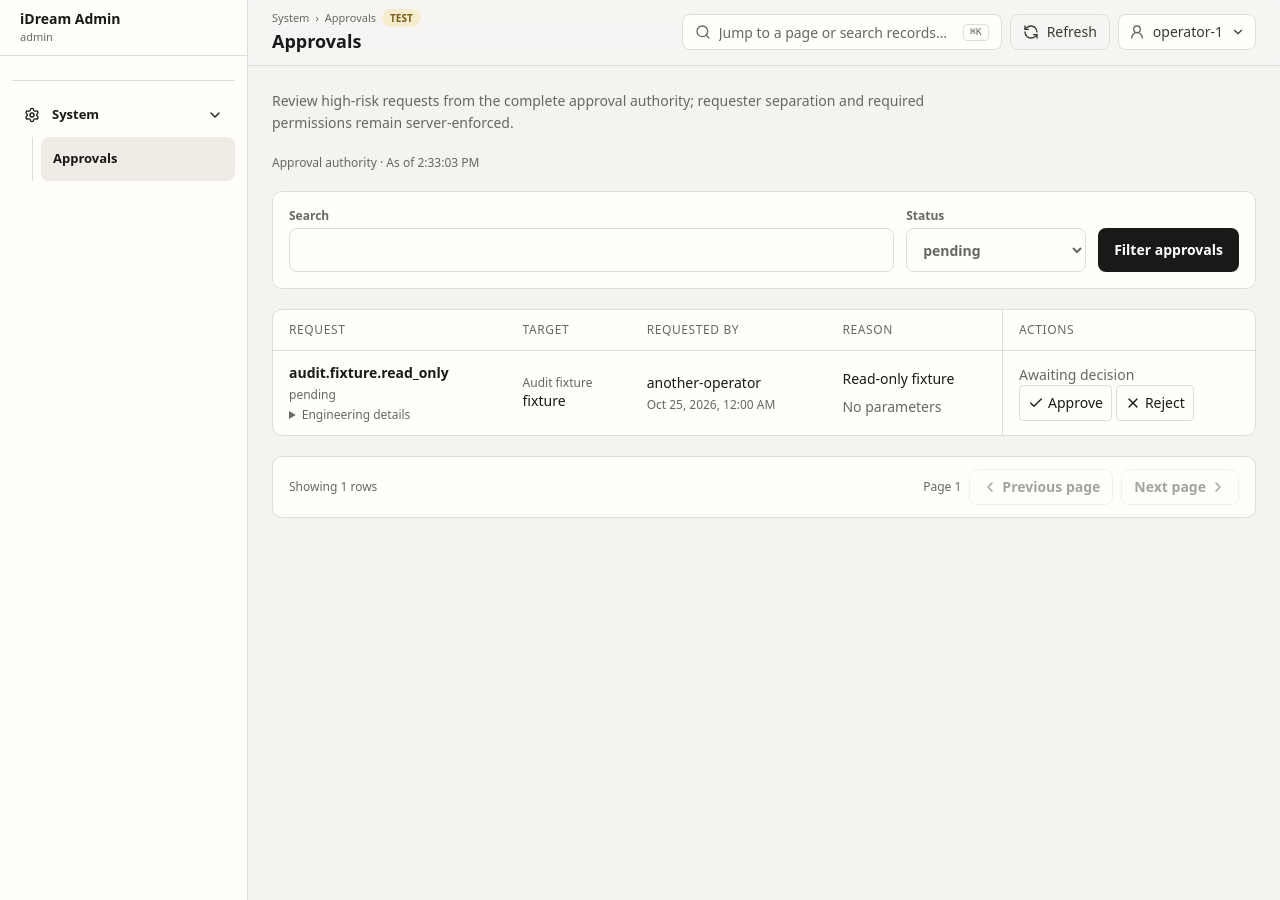
shell permission authority through actual workspace HTTP requests › refreshes permissions before workspace data and removes revoked navigation
The width and height of the screenshot is (1280, 900).
Expected: the button "Approve" is shown, [1019, 385, 1112, 421]
What coordinates should you click on to do the following:
click the button "Refresh"
I would click on:
 (1060, 32)
Its box is [1010, 14, 1110, 50].
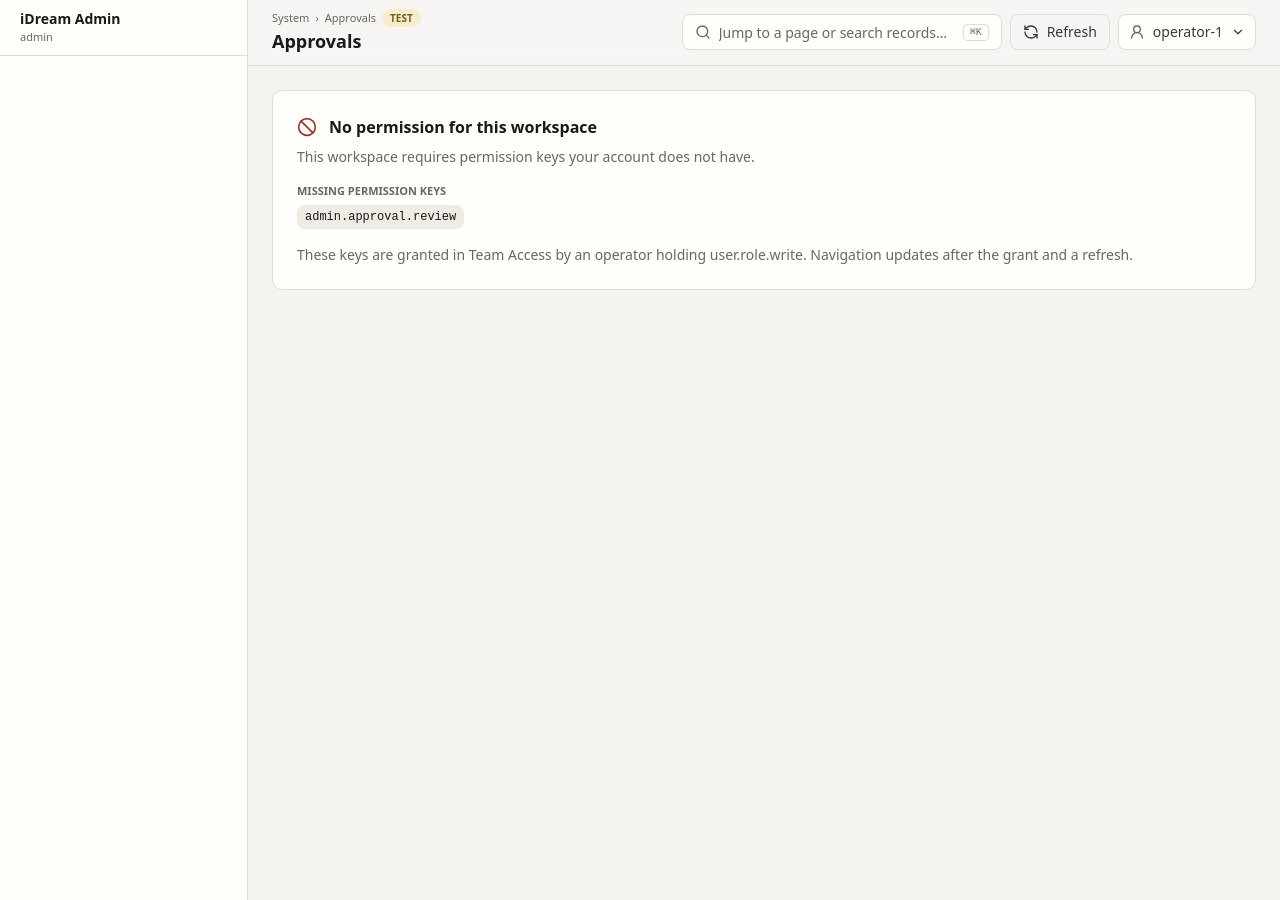
Now the element with test id "admin-section-permission-denied" is shown, box [272, 90, 1256, 290]
Now the link to "/admin/system/approvals" is gone
